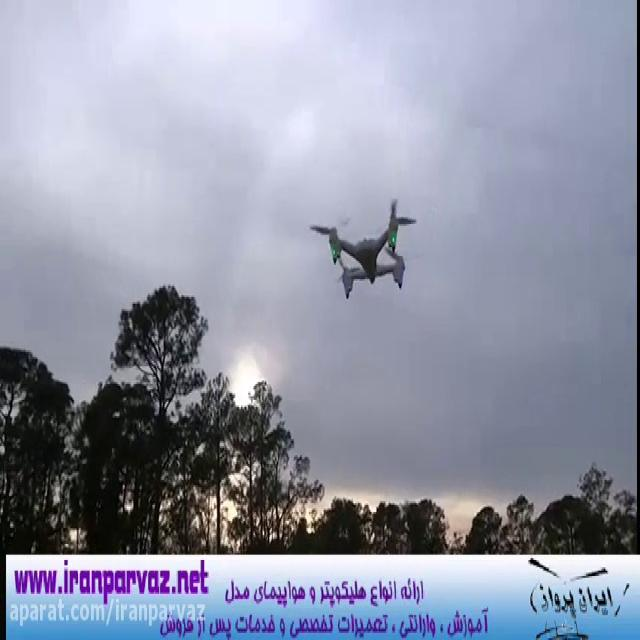drone: (305, 192, 418, 302)
